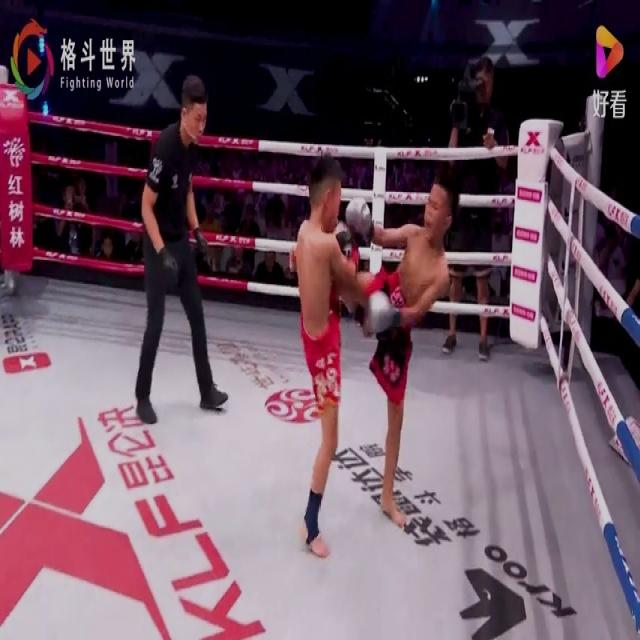fight: (277, 148, 463, 564)
non-fight: (125, 62, 227, 426)
